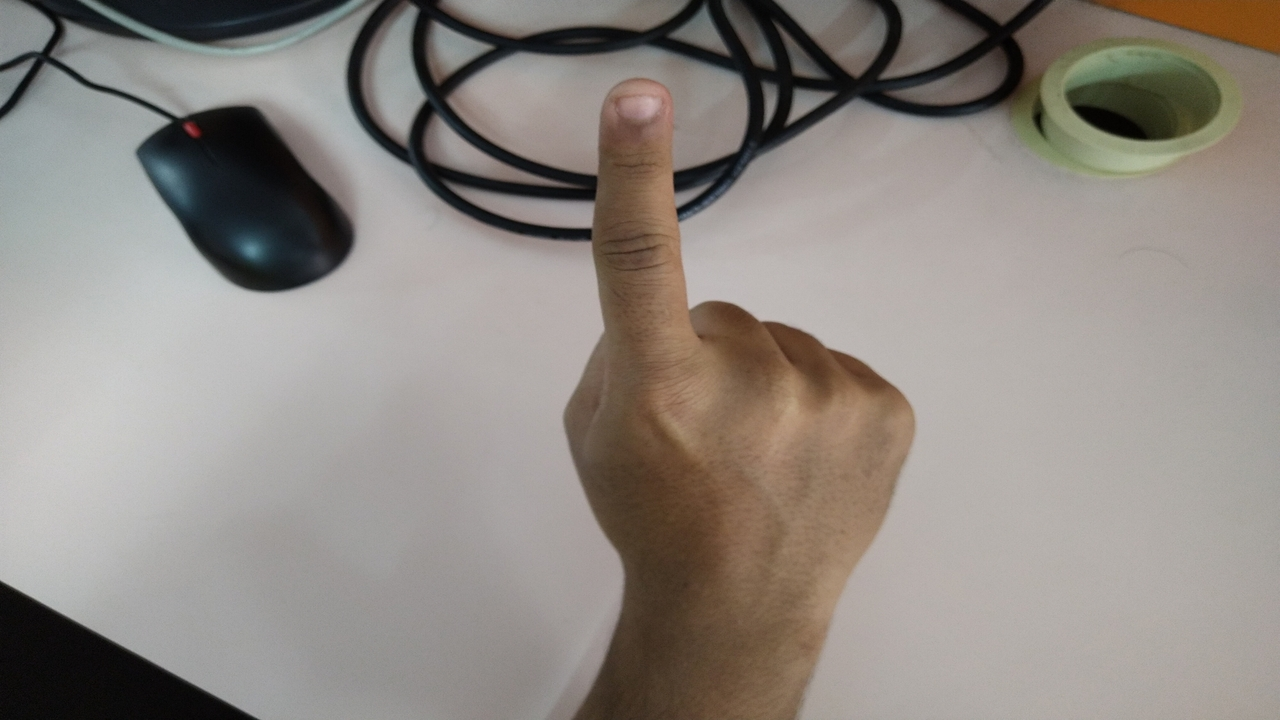fingertip: (598, 78, 674, 148)
